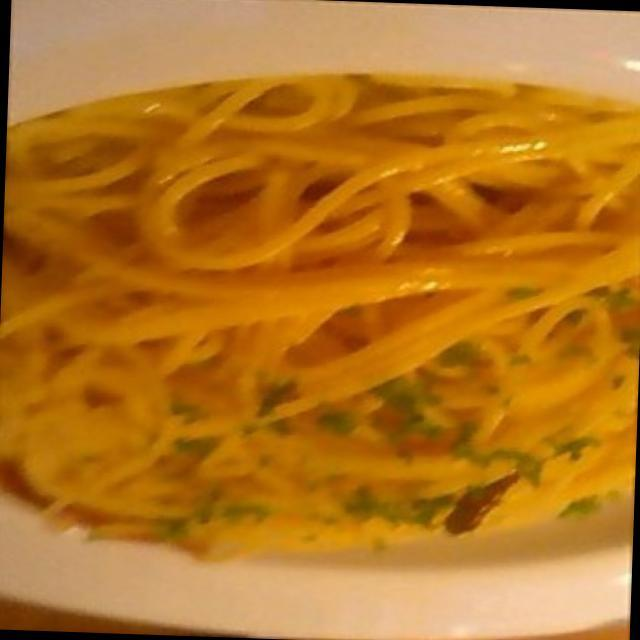Pasta: (0, 70, 640, 545)
